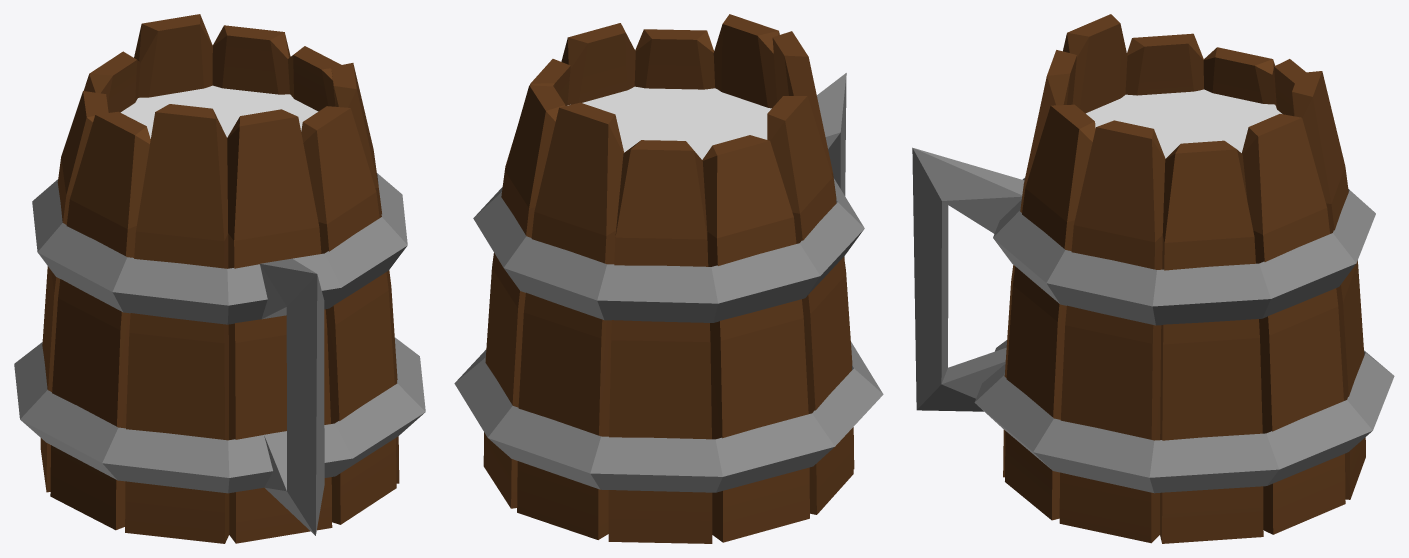
The model's file is empty_mug.glb.
The picture shows the model from 3 angles, left to right: view 1: azimuth 30°, elevation 25°; view 2: azimuth 150°, elevation 25°; view 3: azimuth 270°, elevation 25°; orthographic projection.
Parts seen in each view (by area): view 1: mug 2 (4); view 2: mug 2 (4); view 3: mug 2 (4).
Boxes of the visible parts, bbox=[...] form: mug 2 (4): bbox=[14, 14, 425, 543]; mug 2 (4): bbox=[454, 14, 883, 543]; mug 2 (4): bbox=[912, 14, 1394, 543].
Size of the model in its own units: 0.403 by 0.4285 by 0.4638.
